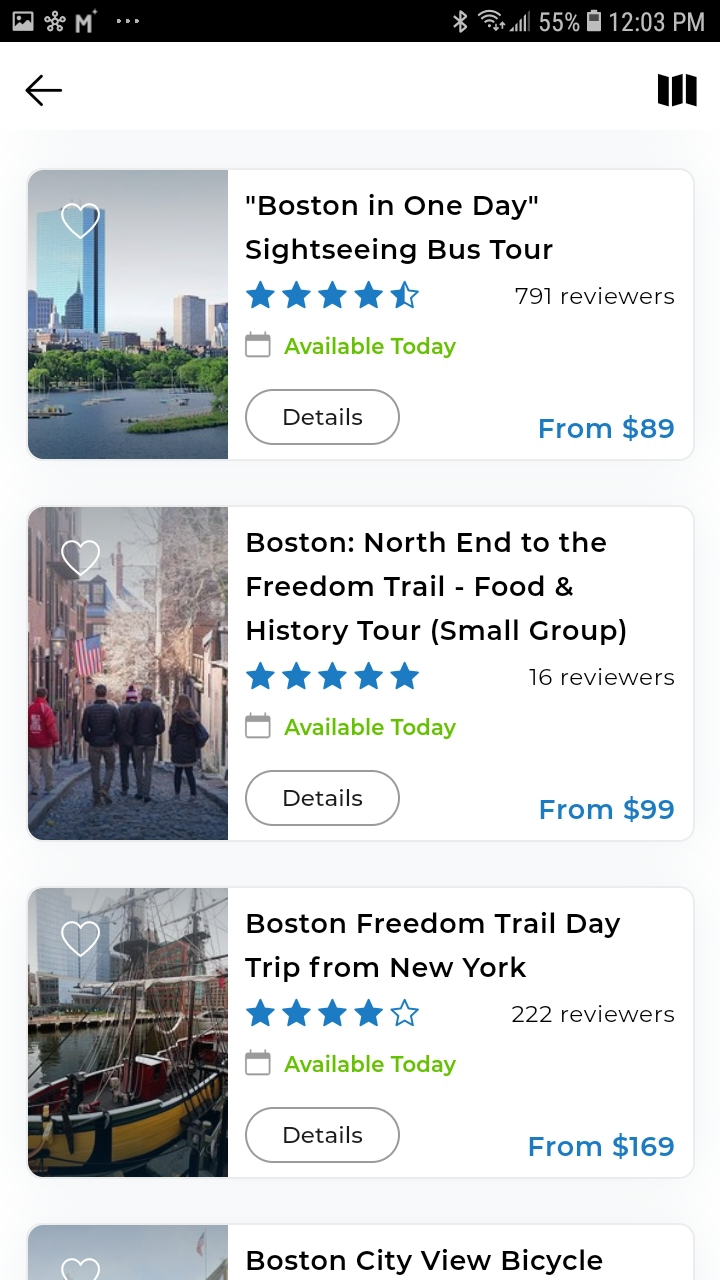Icon: (245, 662, 420, 691), (246, 999, 420, 1027), (246, 281, 419, 309), (61, 920, 100, 957), (62, 541, 101, 577), (61, 204, 100, 240), (657, 74, 698, 108), (26, 75, 64, 108), (63, 1258, 101, 1280), (245, 712, 272, 740), (245, 331, 272, 359), (246, 1049, 272, 1075)
Image: (29, 508, 229, 841), (29, 171, 229, 460), (30, 889, 229, 1177), (29, 1225, 228, 1280)
Text: (247, 531, 627, 647), (245, 912, 620, 983), (246, 194, 554, 266), (247, 1248, 603, 1276), (284, 336, 456, 359), (285, 717, 457, 740), (530, 1132, 674, 1159), (284, 1054, 456, 1076), (540, 796, 675, 823), (540, 416, 674, 442), (516, 287, 675, 306), (512, 1005, 675, 1023), (529, 668, 674, 686)
TextButton: (245, 1106, 401, 1163), (245, 770, 401, 827), (245, 389, 401, 446)
UpperTaskBar: (1, 1, 720, 43)
